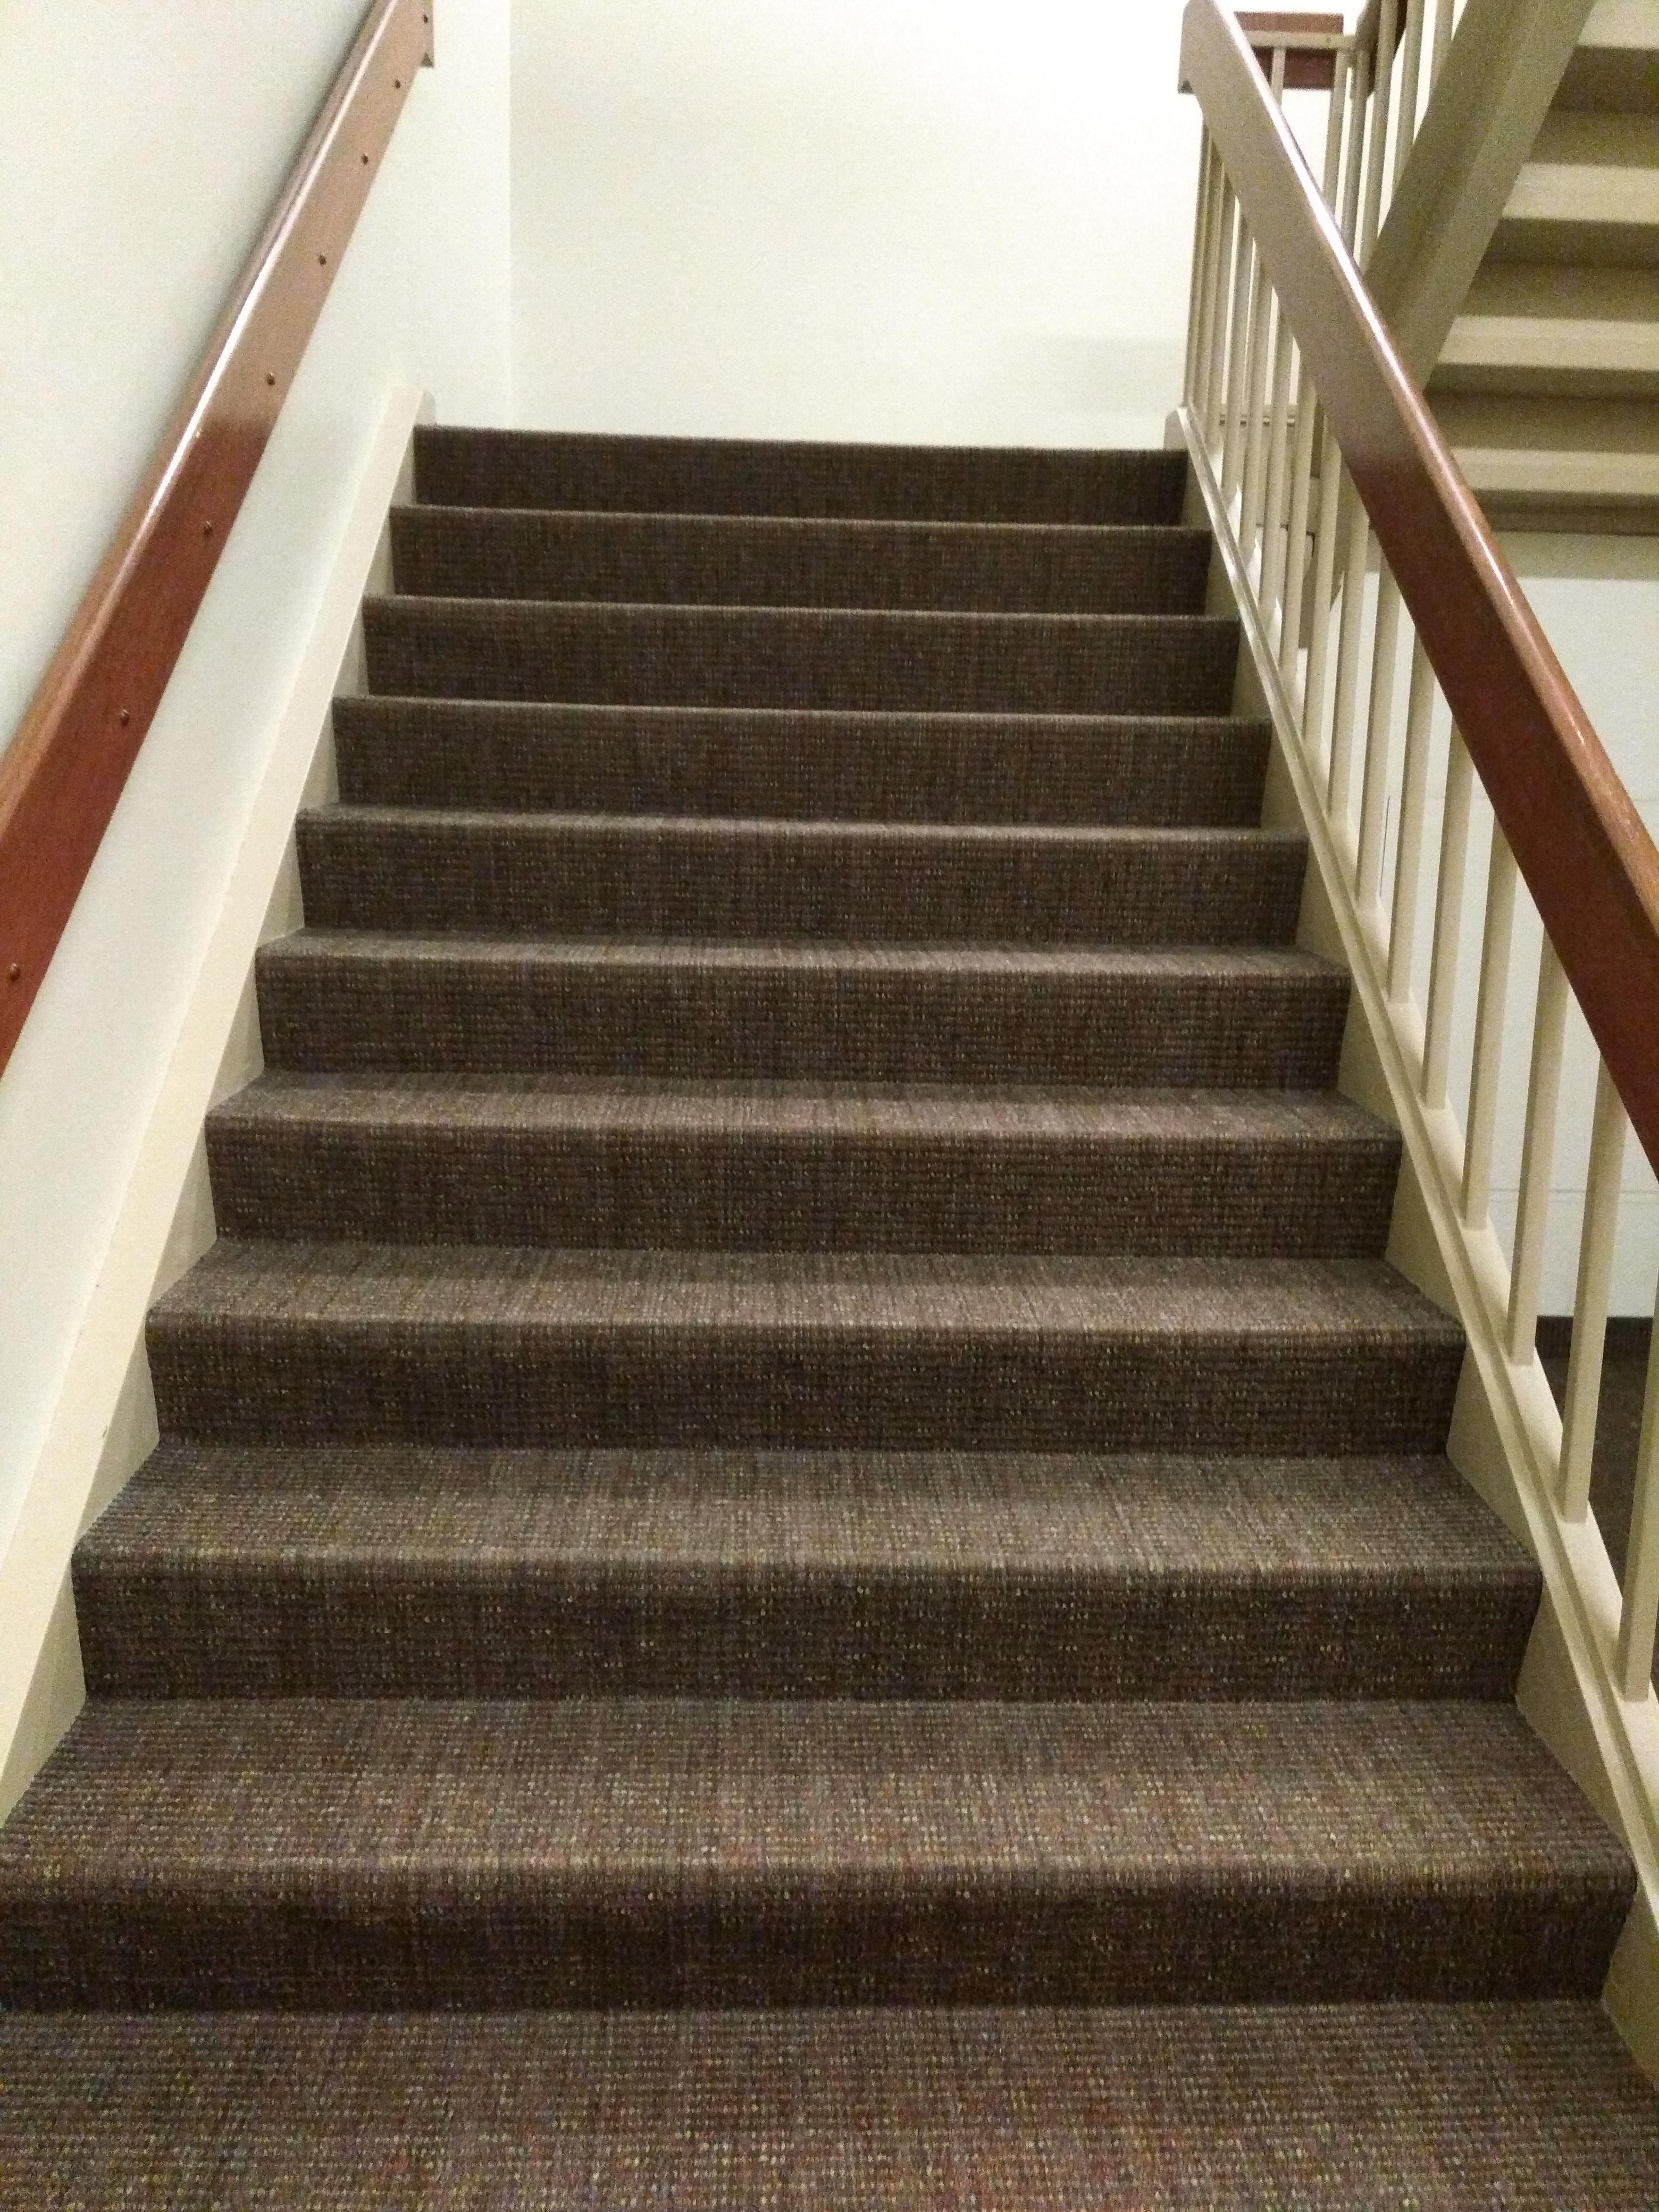stairs_up: (5, 408, 1659, 2101)
